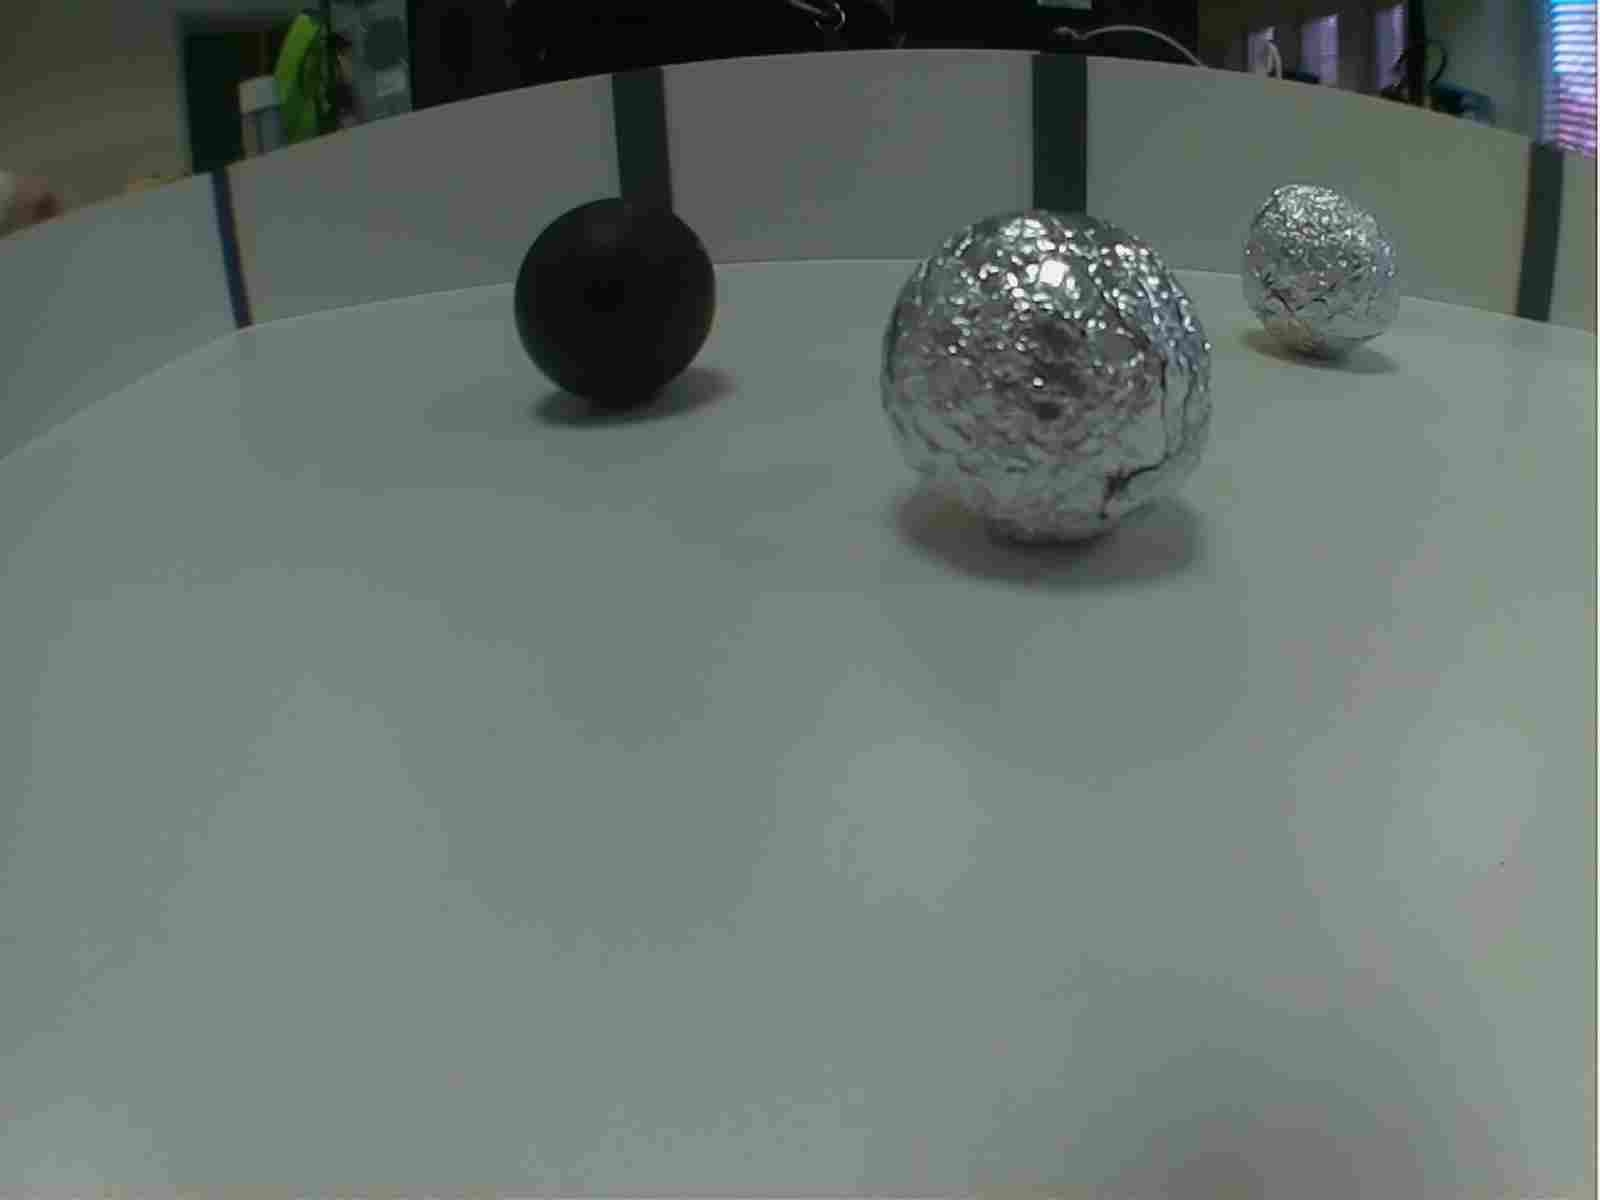bianca: (876, 202, 1220, 562), (1233, 176, 1415, 369)
nera: (509, 190, 724, 408)
